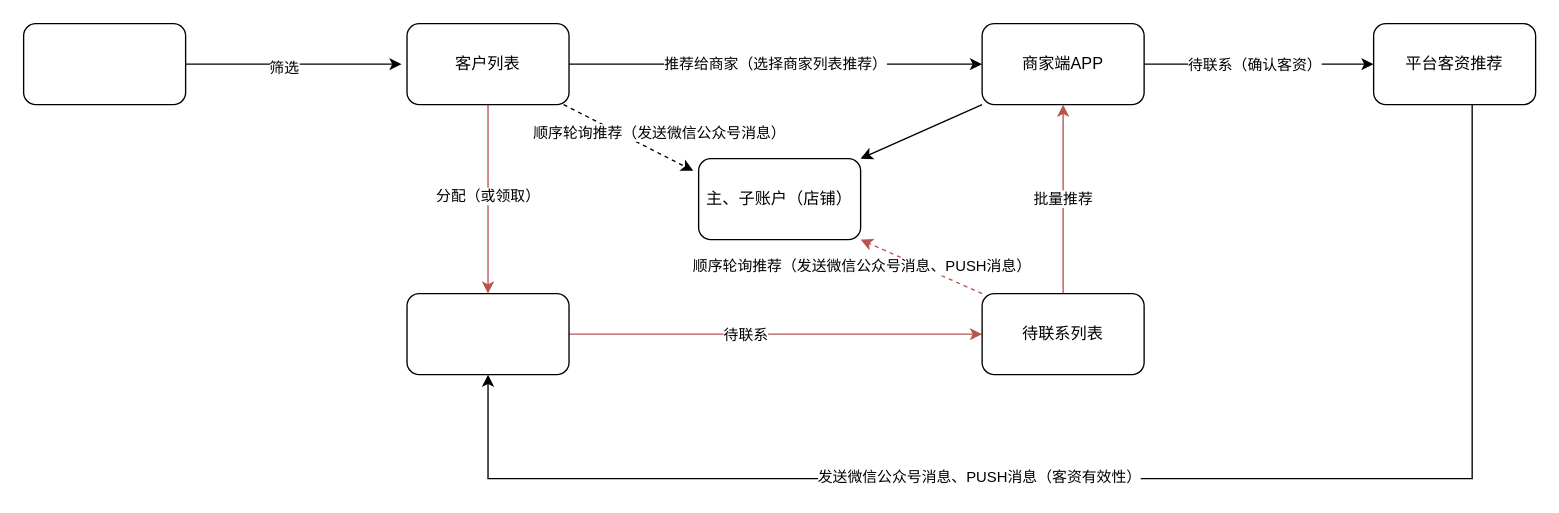
The diagram is 1559 pixels wide and 513 high, and some of its shapes have lost their labels. The shapes that lost their labels are listed below. From the top down, each one's centre as x and y in pixels, then its label:
At [104,63]: "规划师后台端".
At [487,333]: "规划师APP端".
